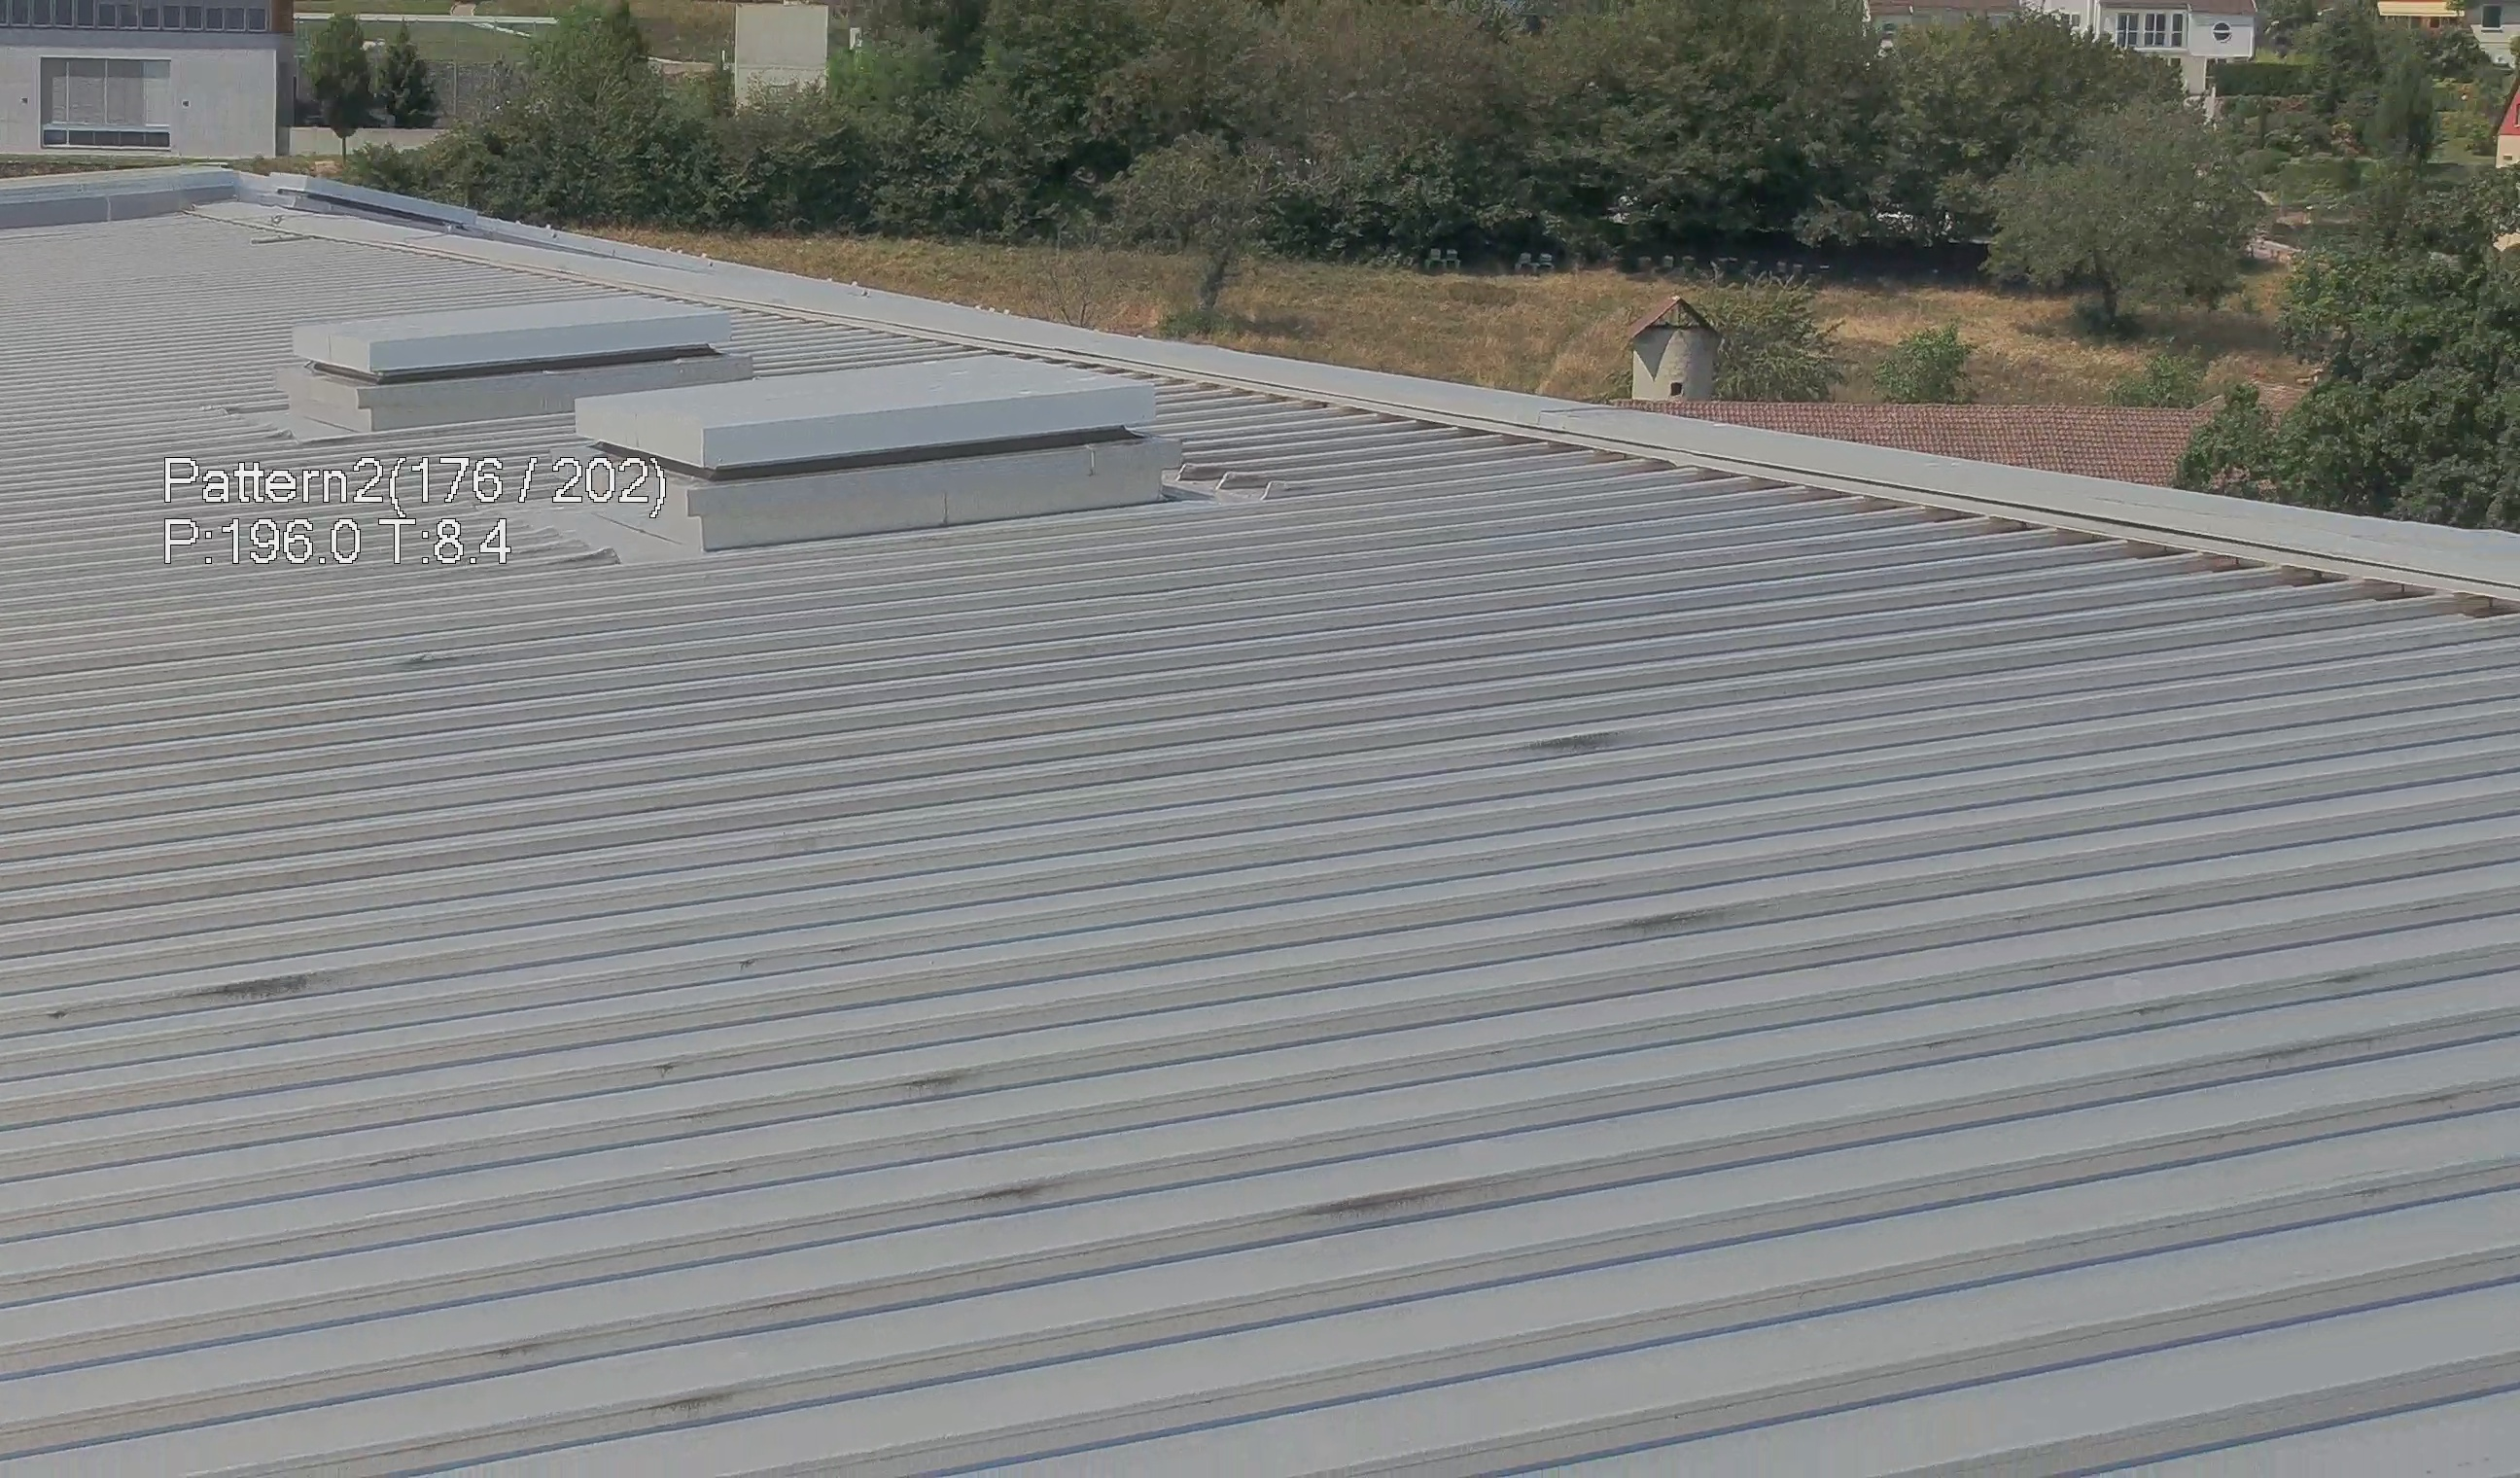Other: (1625, 280, 1755, 410)
